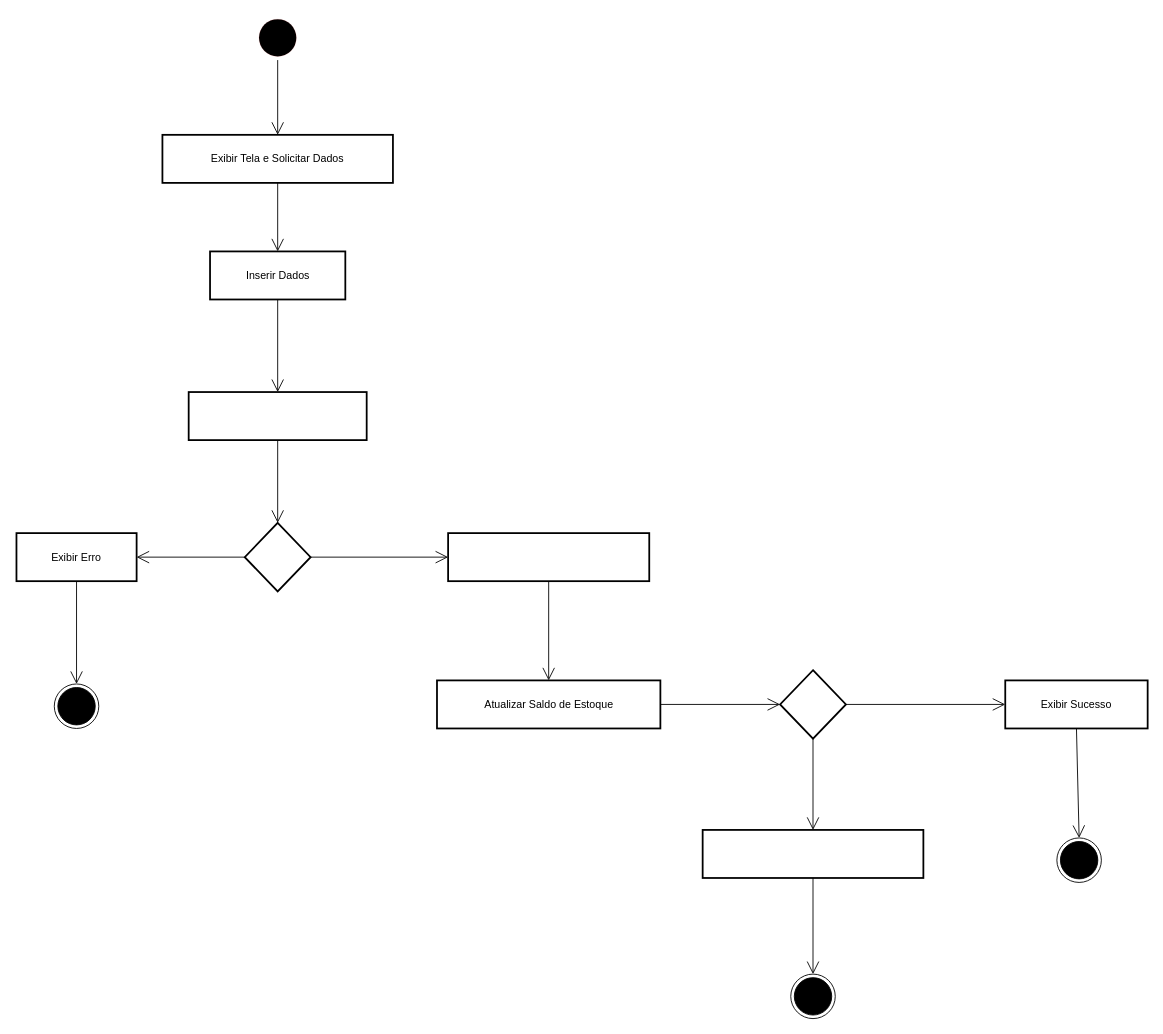
Some shapes in this 1163 by 1034 pixel diagram are drawn without their labels. The shapes that lost their labels are listed below. From the top down, each one's centre as x and y in pixels, then its label:
At (277,416): "Registro de Compra".
At (548,557): "Calcular Custo Unitário".
At (812,853): "Exibir Erro de Comunicação BD".
